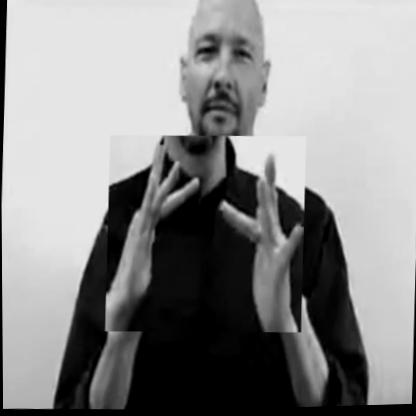Internet: (103, 132, 307, 339)
